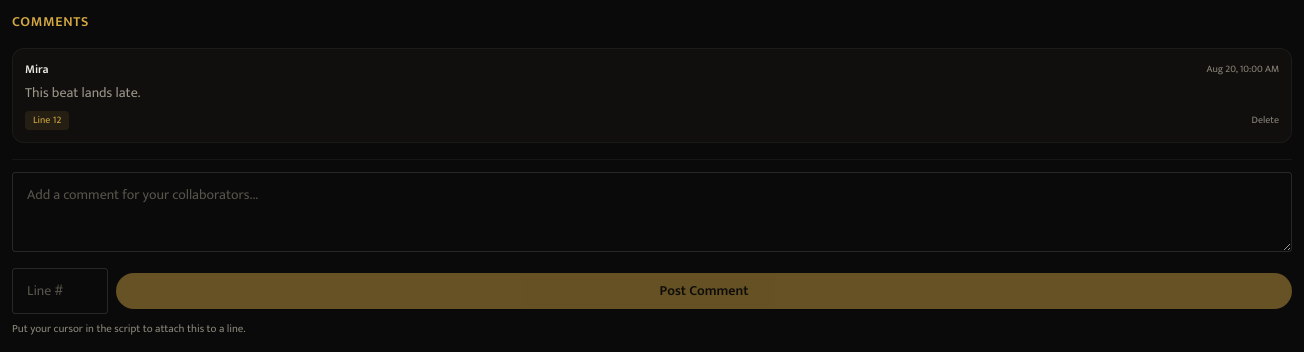
Test: deleting › removes the note from the list
Expected: the text "This beat lands late." is shown, [25,81,140,104]
Click the button "Delete": [1265, 120] box [1252,113,1279,128]
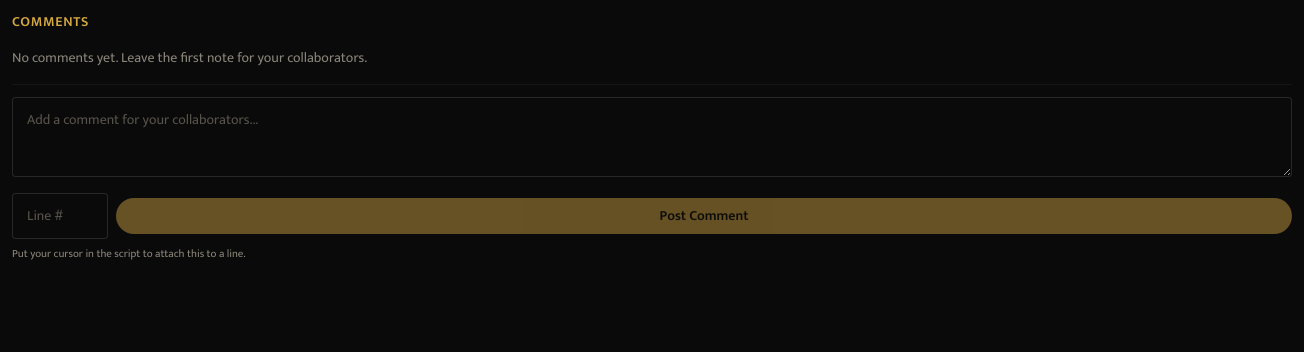
Now the text "This beat lands late." is gone
